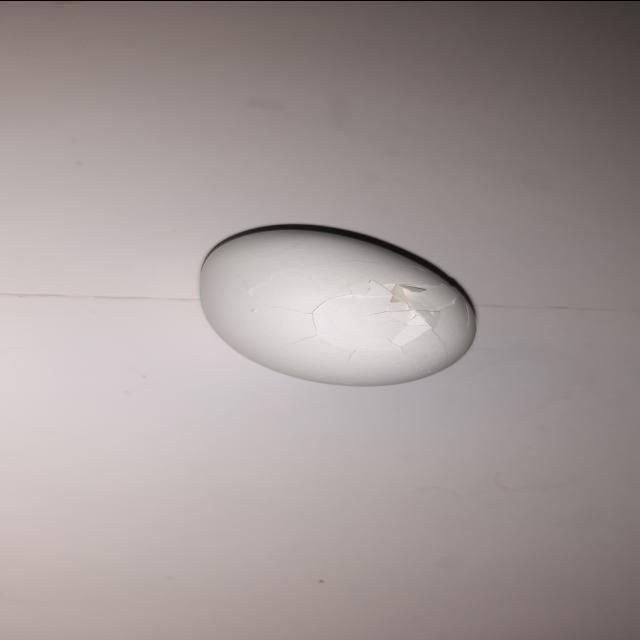egg shell: (190, 222, 486, 388)
